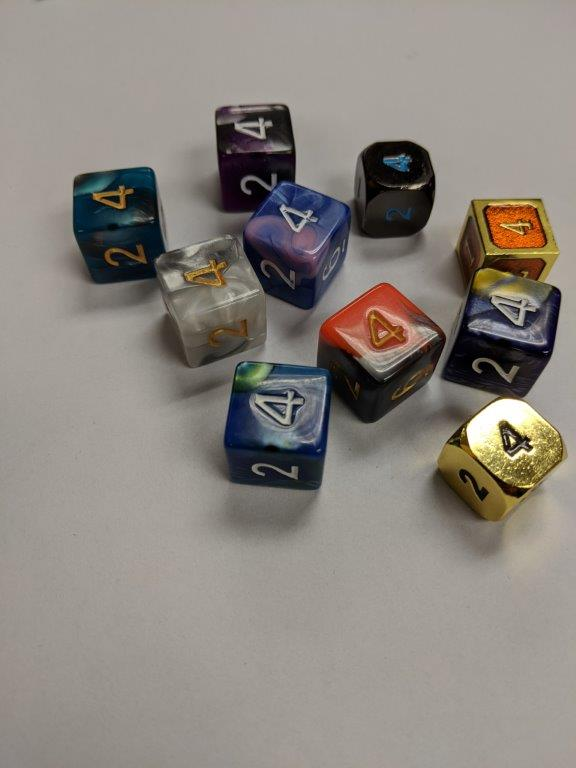d6-4: (316, 282, 446, 421), (434, 395, 567, 523), (446, 268, 567, 401), (220, 361, 333, 492), (239, 181, 356, 307), (156, 233, 267, 365), (71, 167, 169, 282), (453, 199, 560, 283), (211, 103, 296, 208), (349, 140, 435, 241)
